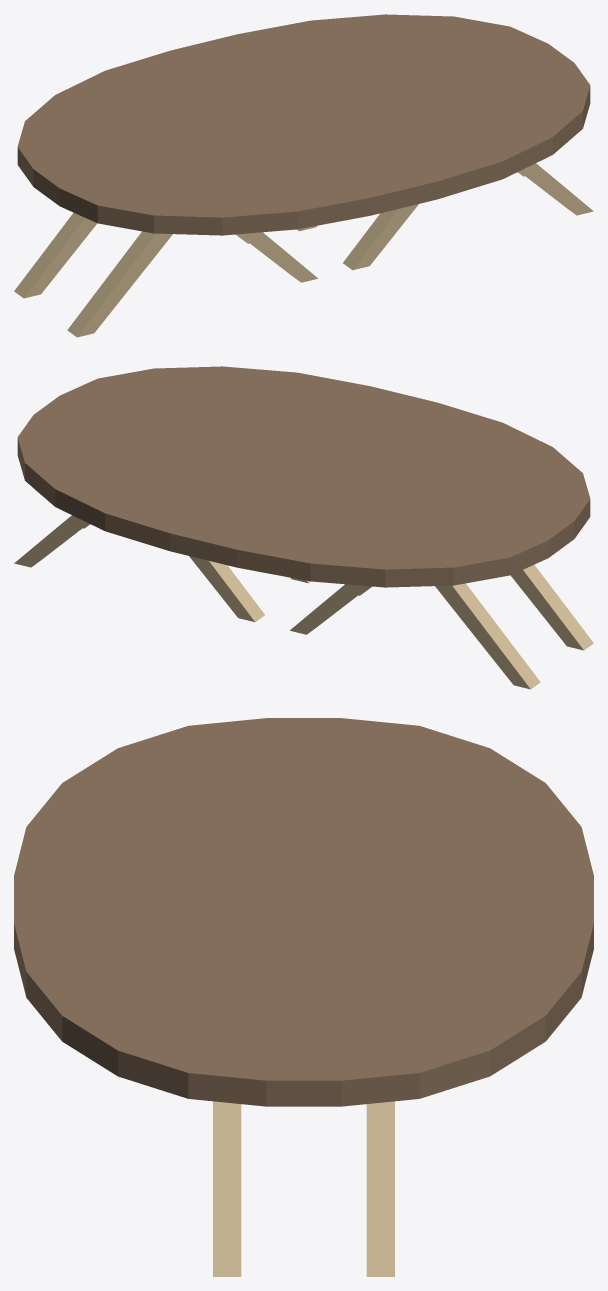
File: Table 1.fbx
3 views of the same model, one above another, from view 1: azimuth 30°, elevation 25°; view 2: azimuth 150°, elevation 25°; view 3: azimuth 270°, elevation 25° (orthographic). The views are drawn at different scales.
Parts seen in each view (by area): view 1: Surface, Legs; view 2: Surface, Legs; view 3: Surface, Legs.
Part boxes in pixels (x1,y1,x2,y2): Surface: [17, 14, 590, 235]; Legs: [14, 163, 593, 337]; Surface: [17, 366, 590, 587]; Legs: [14, 515, 593, 689]; Surface: [14, 718, 593, 1106]; Legs: [213, 1101, 394, 1276].
Size of the model in its own units: 443 by 111 by 298.
